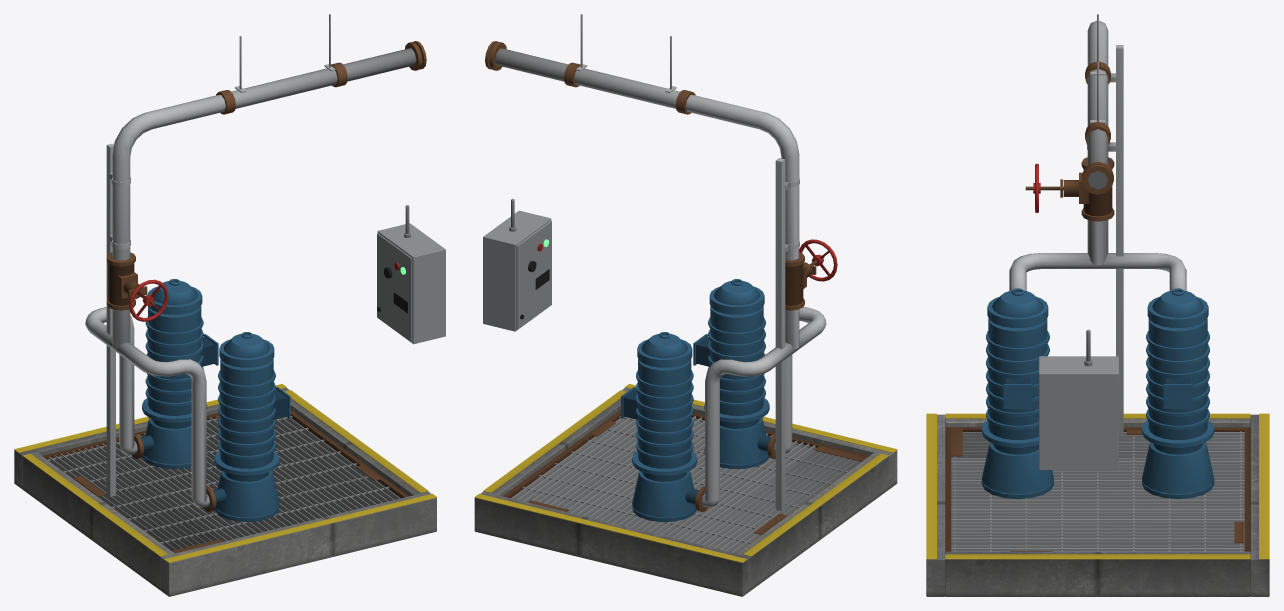
The model's file is pump_station.gltf.
3 views of the same model, side by side, from view 1: azimuth 30°, elevation 25°; view 2: azimuth 150°, elevation 25°; view 3: azimuth 270°, elevation 25° (orthographic). The views are drawn at different scales.
Parts seen in each view (by area): view 1: PumpStation_Kerb, PumpStation_Grate_NoCollide, PumpStation_Piping_Steel, PumpStation_Pump_A, PumpStation_Pump_B, PumpStation_ControlBox, PumpStation_KerbYellow_NoCollide, PumpStation_Piping_Supports, PumpStation_Piping_Valve, PumpStation_GrateRust_NoCollide, PumpStation_Piping_Handwheel; view 2: PumpStation_Kerb, PumpStation_Grate_NoCollide, PumpStation_Piping_Steel, PumpStation_Pump_B, PumpStation_Pump_A, PumpStation_ControlBox, PumpStation_KerbYellow_NoCollide, PumpStation_Piping_Supports, PumpStation_Piping_Valve, PumpStation_GrateRust_NoCollide, PumpStation_Piping_Handwheel; view 3: PumpStation_Grate_NoCollide, PumpStation_Kerb, PumpStation_Pump_B, PumpStation_Pump_A, PumpStation_ControlBox, PumpStation_Piping_Steel, PumpStation_KerbYellow_NoCollide, PumpStation_Piping_Supports, PumpStation_GrateRust_NoCollide, PumpStation_Piping_Valve.
Boxes of the visible parts, x1,y1,x2,y2 form: PumpStation_Kerb: (14, 388, 436, 596); PumpStation_Grate_NoCollide: (47, 416, 400, 550); PumpStation_Piping_Steel: (85, 48, 416, 507); PumpStation_Pump_A: (213, 332, 290, 521); PumpStation_Pump_B: (140, 279, 218, 468); PumpStation_ControlBox: (377, 205, 445, 344); PumpStation_KerbYellow_NoCollide: (14, 383, 437, 562); PumpStation_Piping_Supports: (106, 14, 335, 496); PumpStation_Piping_Valve: (106, 41, 426, 511); PumpStation_GrateRust_NoCollide: (42, 410, 408, 553); PumpStation_Piping_Handwheel: (129, 279, 168, 321); PumpStation_Kerb: (474, 388, 897, 596); PumpStation_Grate_NoCollide: (511, 416, 860, 553); PumpStation_Piping_Steel: (495, 48, 826, 507); PumpStation_Pump_B: (621, 332, 698, 521); PumpStation_Pump_A: (693, 279, 770, 468); PumpStation_ControlBox: (483, 198, 551, 331); PumpStation_KerbYellow_NoCollide: (474, 384, 897, 562); PumpStation_Piping_Supports: (576, 14, 799, 511); PumpStation_Piping_Valve: (485, 41, 824, 511); PumpStation_GrateRust_NoCollide: (503, 410, 869, 552); PumpStation_Piping_Handwheel: (799, 239, 837, 281); PumpStation_Grate_NoCollide: (951, 431, 1244, 551); PumpStation_Kerb: (926, 414, 1269, 596); PumpStation_Pump_B: (1142, 288, 1214, 499); PumpStation_Pump_A: (981, 288, 1053, 499); PumpStation_ControlBox: (1039, 329, 1118, 470); PumpStation_Piping_Steel: (1009, 20, 1186, 290); PumpStation_KerbYellow_NoCollide: (926, 413, 1269, 559); PumpStation_Piping_Supports: (1087, 14, 1123, 435); PumpStation_GrateRust_NoCollide: (945, 427, 1250, 551); PumpStation_Piping_Valve: (1025, 61, 1114, 221).
Size of the model in its own units: 2.2 by 3 by 1.8.
9 materials, 1 textured.
